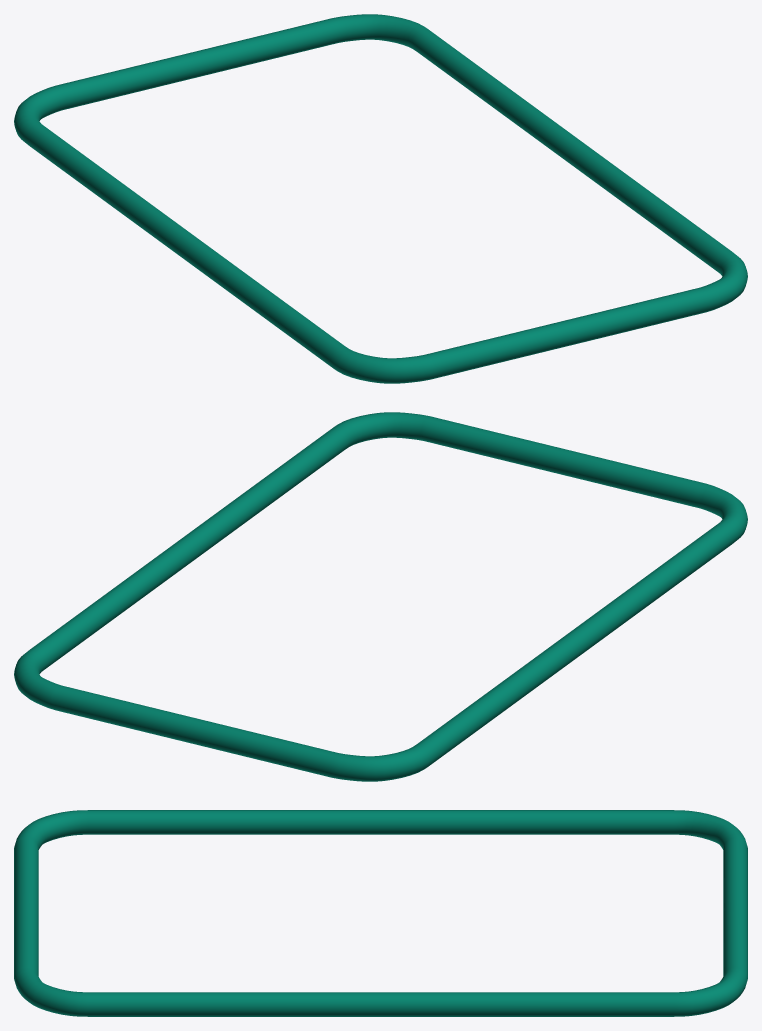
The picture shows the model from 3 angles, top to bottom: view 1: azimuth 30°, elevation 25°; view 2: azimuth 150°, elevation 25°; view 3: azimuth 270°, elevation 25°; orthographic projection. The views are drawn at different scales.
Parts seen in each view (by area): view 1: 图形002; view 2: 图形002; view 3: 图形002.
Part boxes in pixels (x1,y1,x2,y2): 图形002: (14, 14, 747, 383); 图形002: (14, 412, 747, 781); 图形002: (14, 810, 747, 1016).
Bounding box in the file's own units: 1293 × 70 × 2083.
